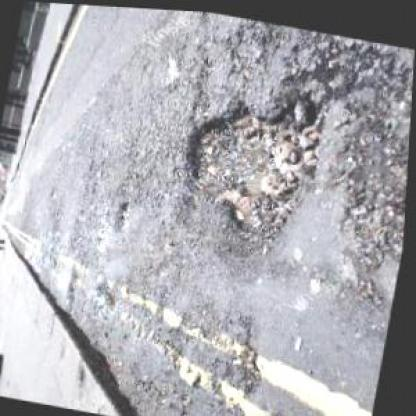pothole: (165, 64, 334, 259), (115, 197, 133, 229)
